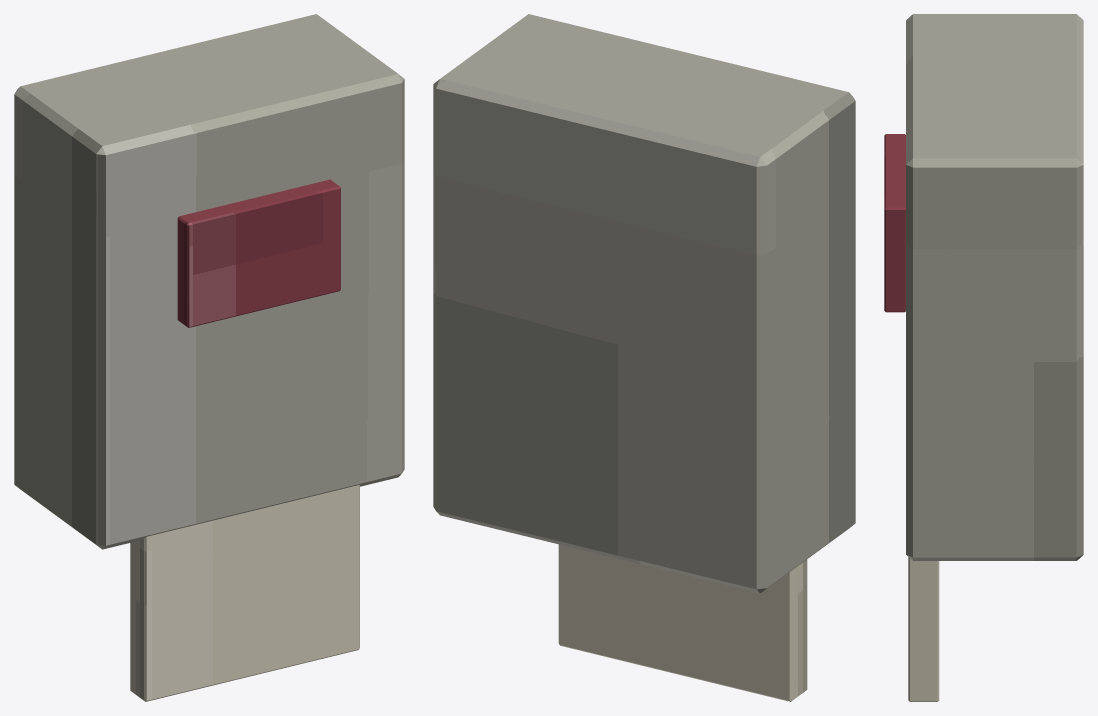
The model's file is public_paper_towel_dispenser.glb.
The picture shows the model from 3 angles, left to right: view 1: azimuth 30°, elevation 25°; view 2: azimuth 150°, elevation 25°; view 3: azimuth 270°, elevation 25°; orthographic projection. The views are drawn at different scales.
Parts seen in each view (by area): view 1: PaperTowelCabinet, PaperSheet, PaperTowelWindow; view 2: PaperTowelCabinet, PaperSheet; view 3: PaperTowelCabinet, PaperSheet, PaperTowelWindow.
Boxes of the visible parts, x1,y1,x2,y2 form: PaperTowelCabinet: (14, 14, 404, 549); PaperSheet: (130, 485, 359, 701); PaperTowelWindow: (177, 179, 340, 327); PaperTowelCabinet: (433, 14, 855, 593); PaperSheet: (558, 544, 807, 701); PaperTowelCabinet: (906, 14, 1083, 560); PaperSheet: (908, 557, 939, 701); PaperTowelWindow: (884, 134, 905, 312).
Size of the model in its own units: 0.4 by 0.7 by 0.2245.
Materials: 1 (1 with a texture image).
